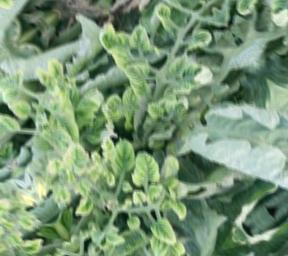Tomato leaf yellow virus: (28, 68, 95, 138), (118, 137, 174, 195), (165, 53, 224, 107), (51, 135, 102, 189), (89, 14, 138, 66), (100, 133, 150, 183), (95, 80, 145, 129), (141, 207, 184, 251), (139, 229, 203, 256), (0, 66, 33, 108), (120, 56, 155, 93), (0, 100, 24, 148)
